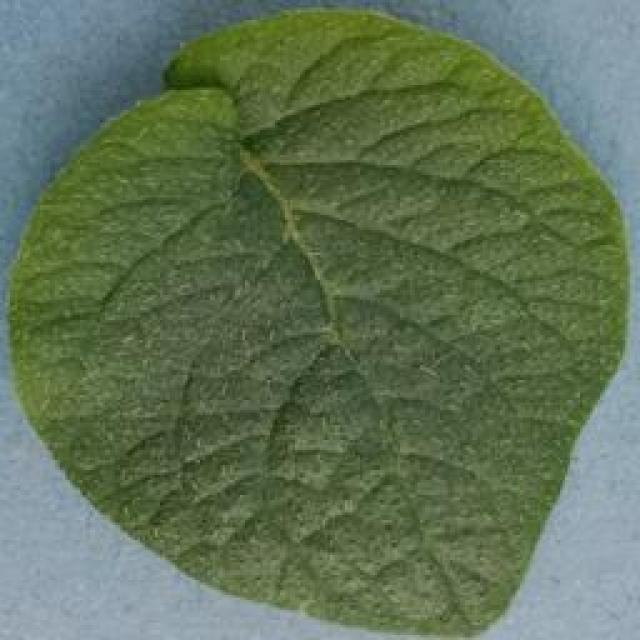Potato_Healthy: (9, 10, 622, 638)
